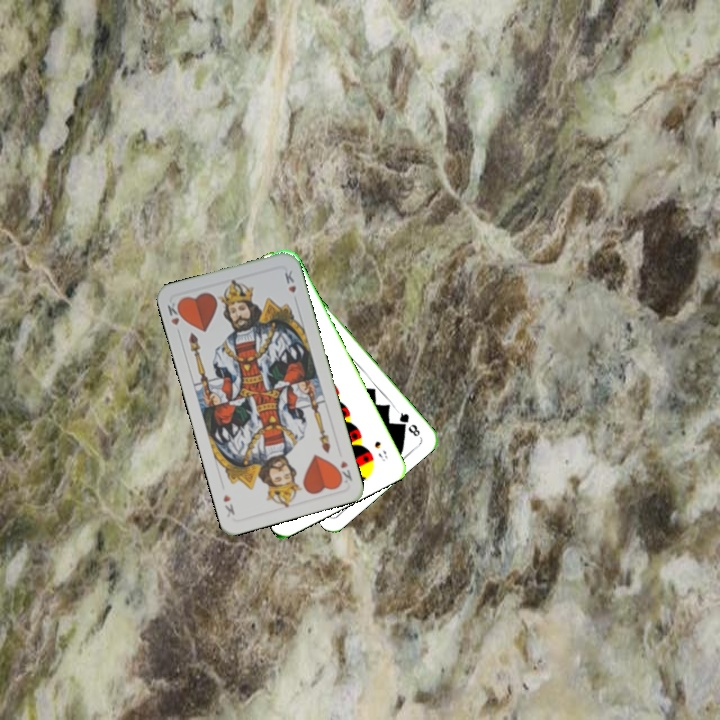G8: (393, 406, 423, 439)
HK: (163, 298, 187, 328), (332, 456, 355, 486)
S8: (370, 437, 390, 464)
